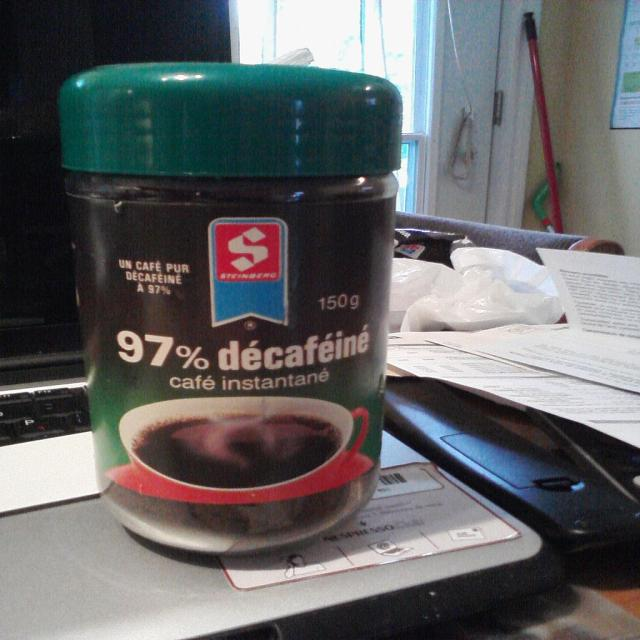Coffee: (122, 409, 342, 488)
